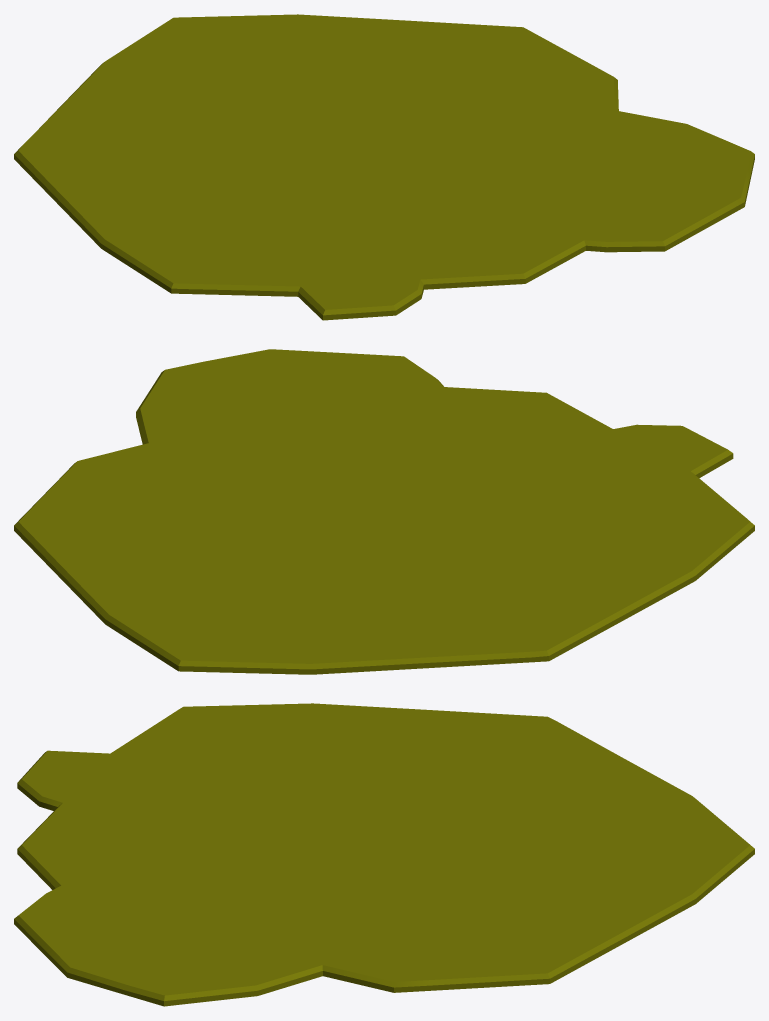
File: NOMOON_OBJ_GLUETRAP_001.fbx
3 renders of one model, top to bottom at view 1: azimuth 30°, elevation 25°; view 2: azimuth 150°, elevation 25°; view 3: azimuth 270°, elevation 25°, orthographic. The views are drawn at different scales.
Parts seen in each view (by area): view 1: pDisc1; view 2: pDisc1; view 3: pDisc1.
Part boxes in pixels (box(x1,y1,x2,y2)): pDisc1: box(14, 14, 754, 320); pDisc1: box(14, 349, 754, 674); pDisc1: box(14, 703, 754, 1006).
Bounding box in the file's own units: 4.26 × 0.0609 × 4.51.
